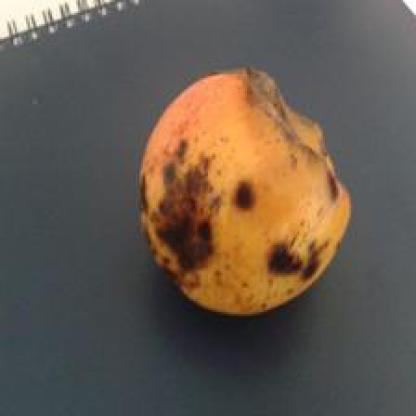mango_rotten: (137, 67, 353, 314)
